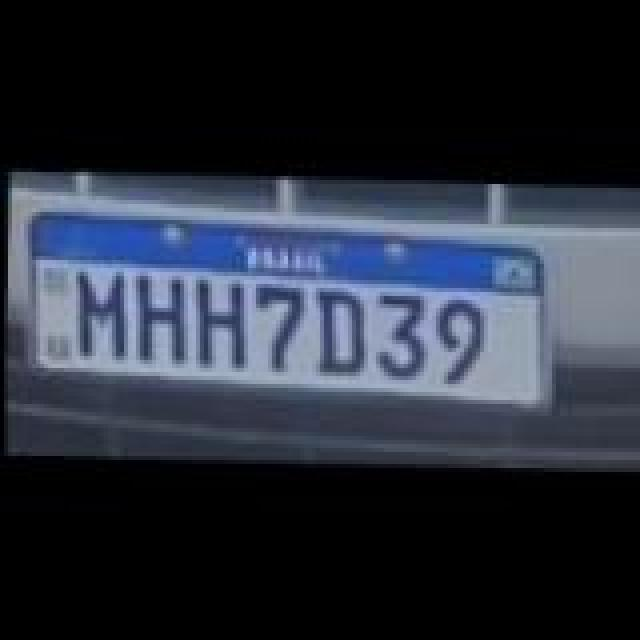3: (372, 286, 436, 378)
7: (250, 280, 310, 368)
9: (430, 296, 490, 380)
D: (306, 280, 374, 372)
H: (124, 266, 196, 362), (186, 270, 254, 366)
M: (64, 264, 136, 360)
